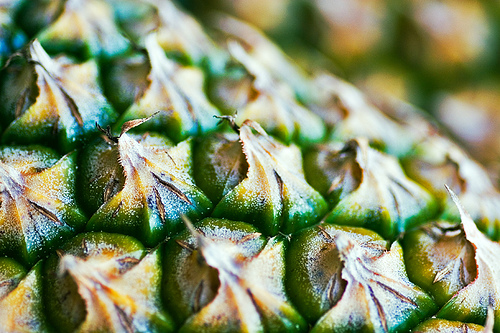pineapple: (0, 1, 499, 332)
